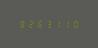eight: (17, 20, 25, 28)
one: (53, 20, 61, 28), (62, 20, 70, 28)
six: (35, 20, 43, 28)
three: (44, 20, 52, 28)
two: (26, 20, 34, 28)
zero: (71, 20, 79, 28)
